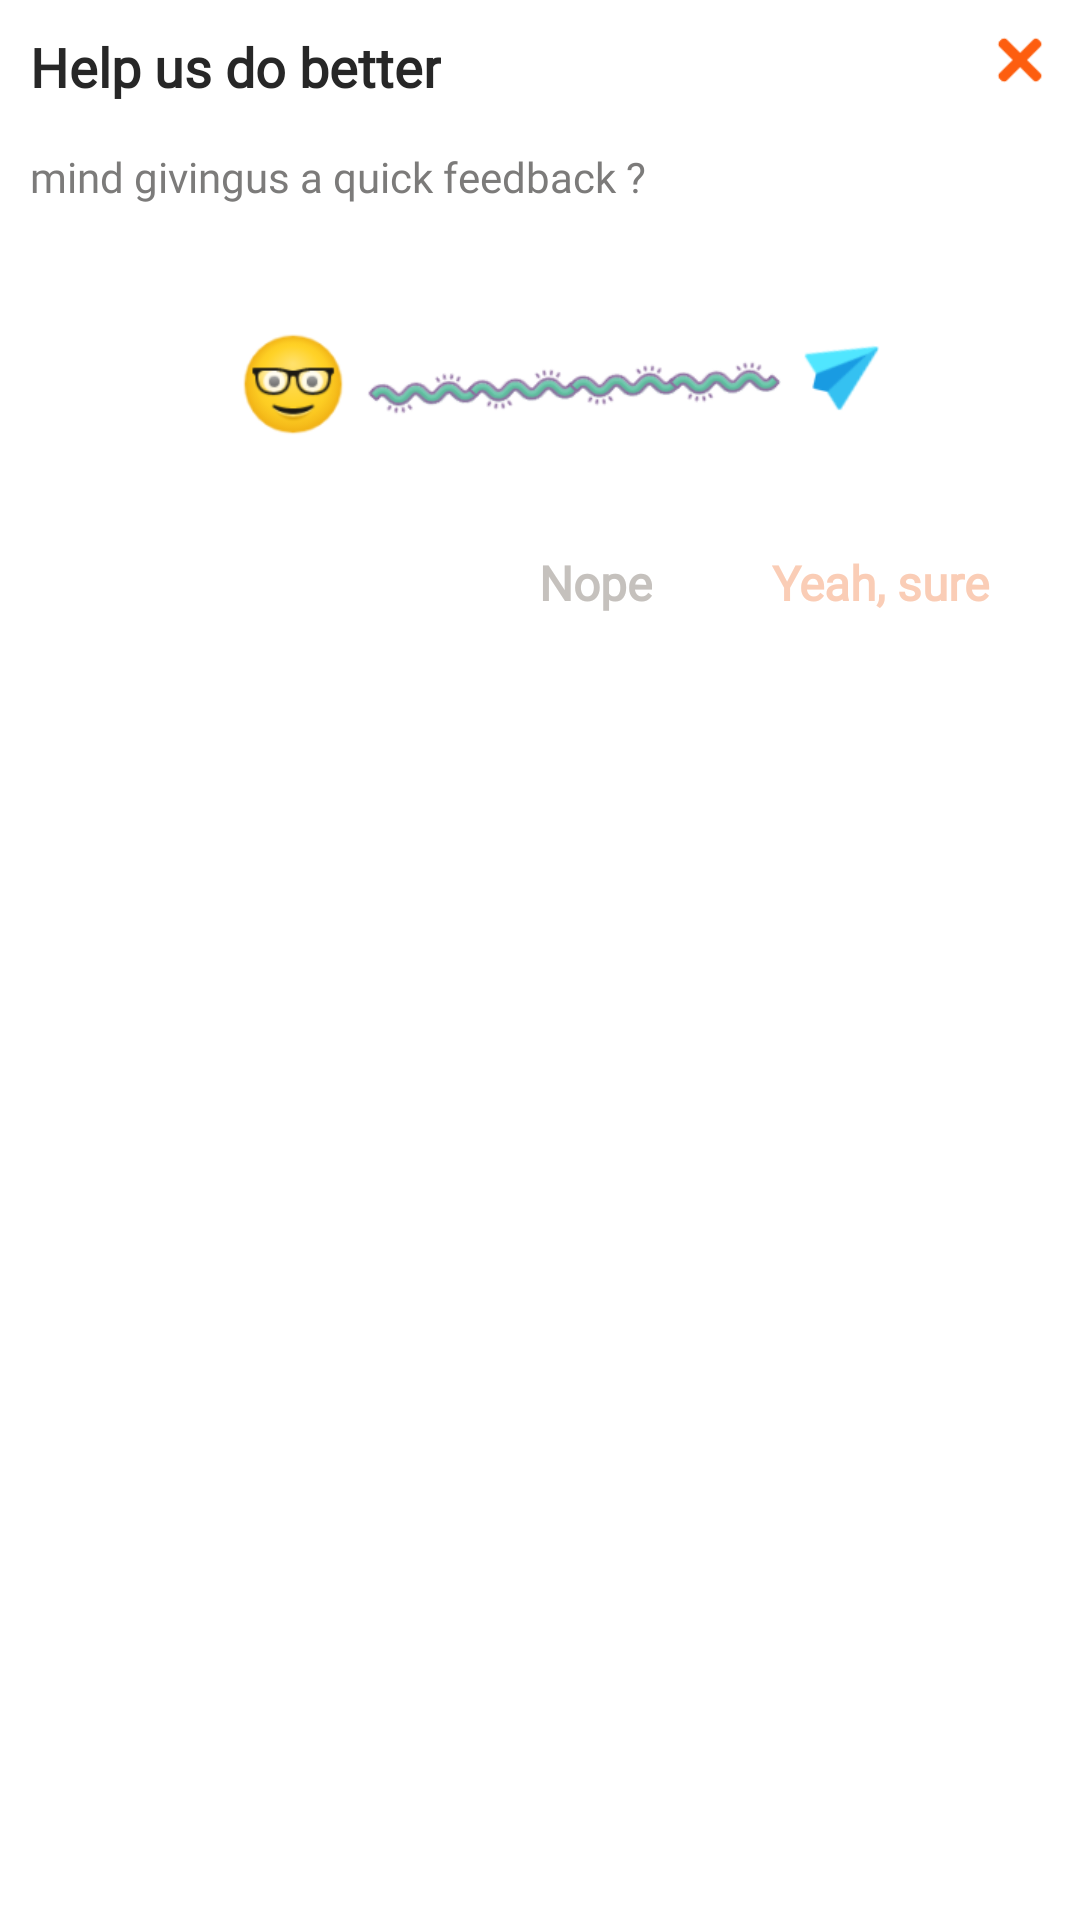

Named icons in this screenshot (1080 x 1920) and their centers, (x,y):
close: (1020,60)
